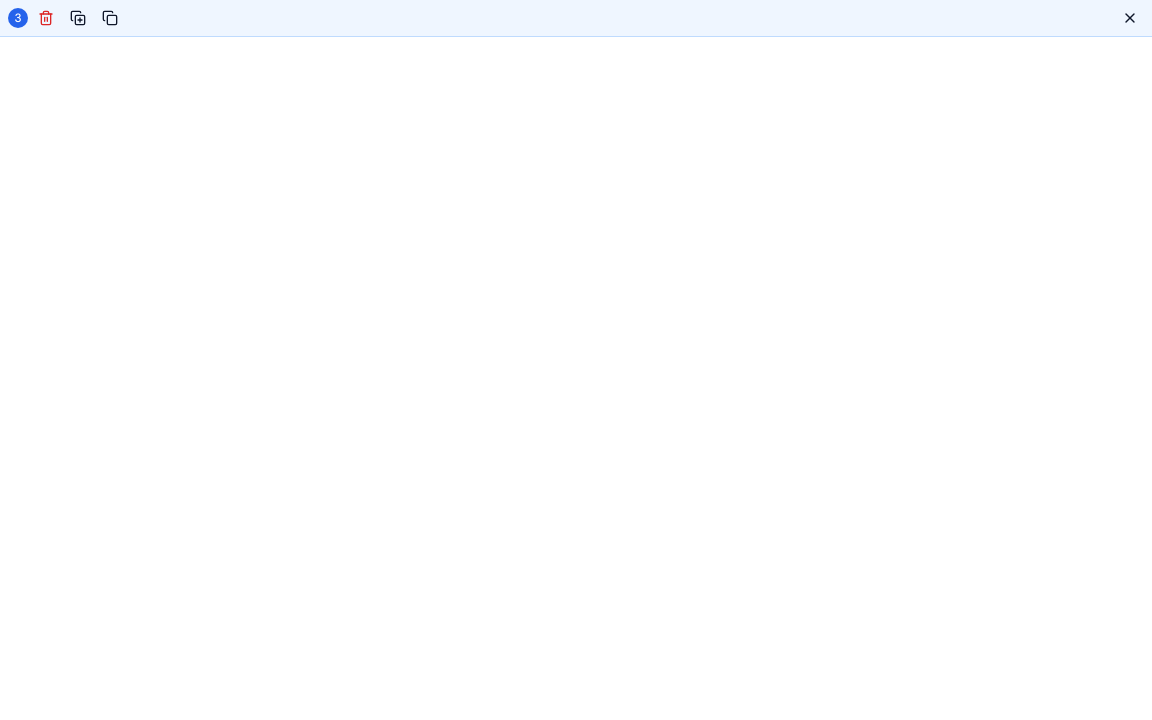
BulkActionsToolbar › compact mode › shows delete confirmation dialog on click
The width and height of the screenshot is (1152, 720).
Step 1. Click the button named "Delete" → {"x": 46, "y": 18}, box [32,4,60,32]
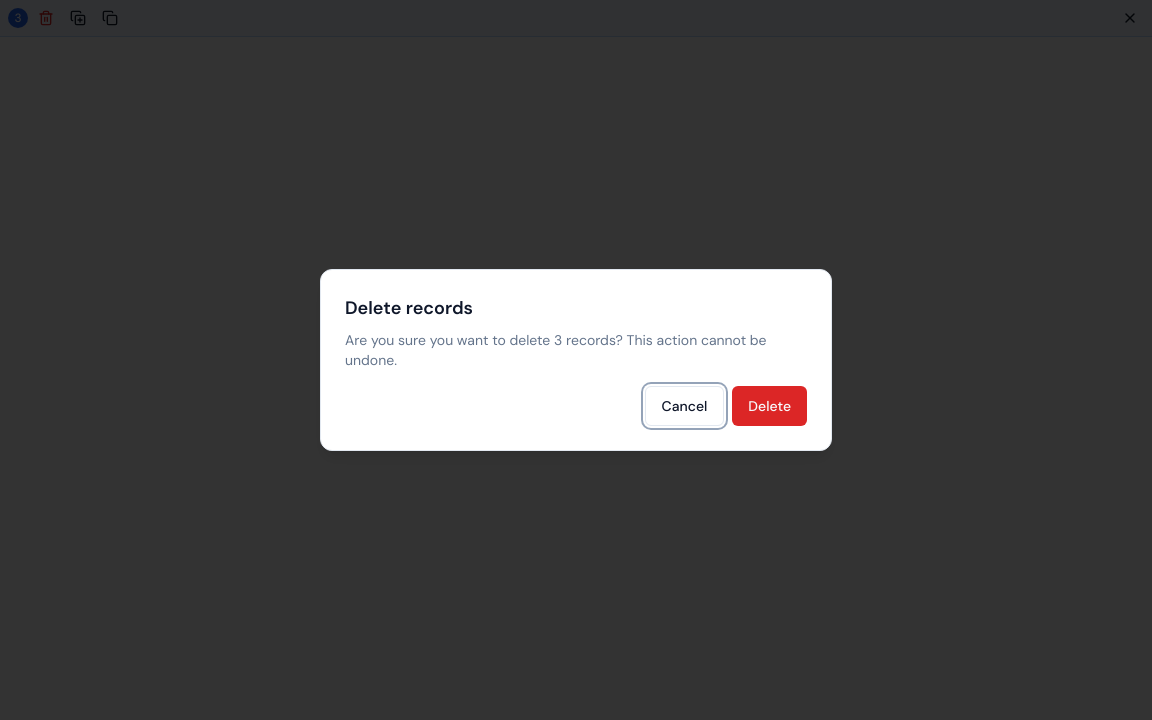
expect the heading "Delete records" is shown: met, box [345,296,473,320]
expect the text "Are you sure you want to delete 3 records" is shown: met, box [345,331,767,369]
